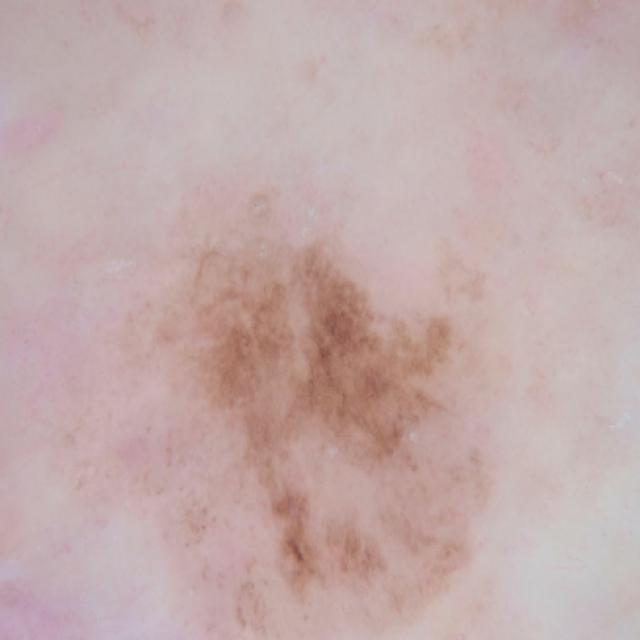Keratosis: (103, 159, 553, 640)
